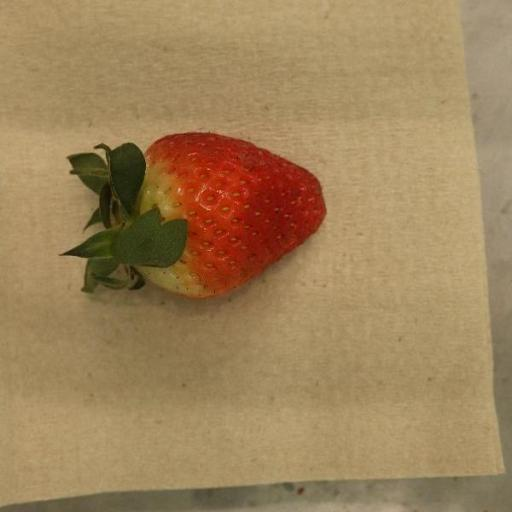Strawberry: (60, 133, 327, 301)
